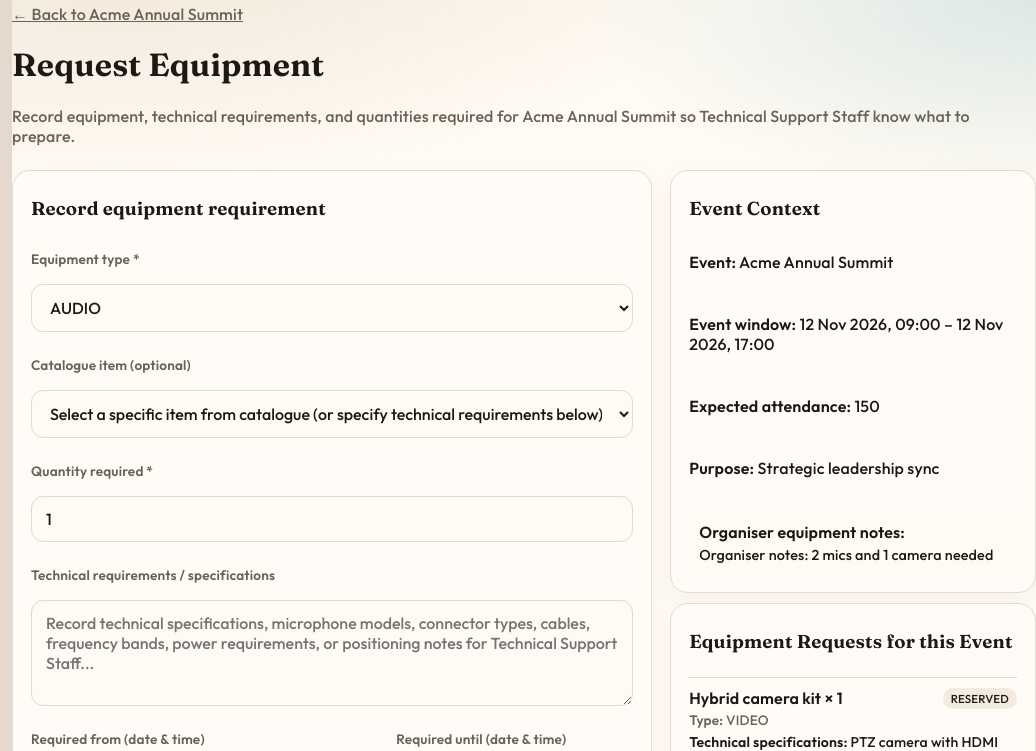
Test: SCRUM-47 EquipmentRequest page › AC2: validates quantity is at least 1
Expected: the heading "Request Equipment" is shown, [12,45,324,84]
Step 1. Replace the text in the number field labelled "Quantity required *" with "0" → [332, 519], box [31,496,633,542]
(page scrolled)
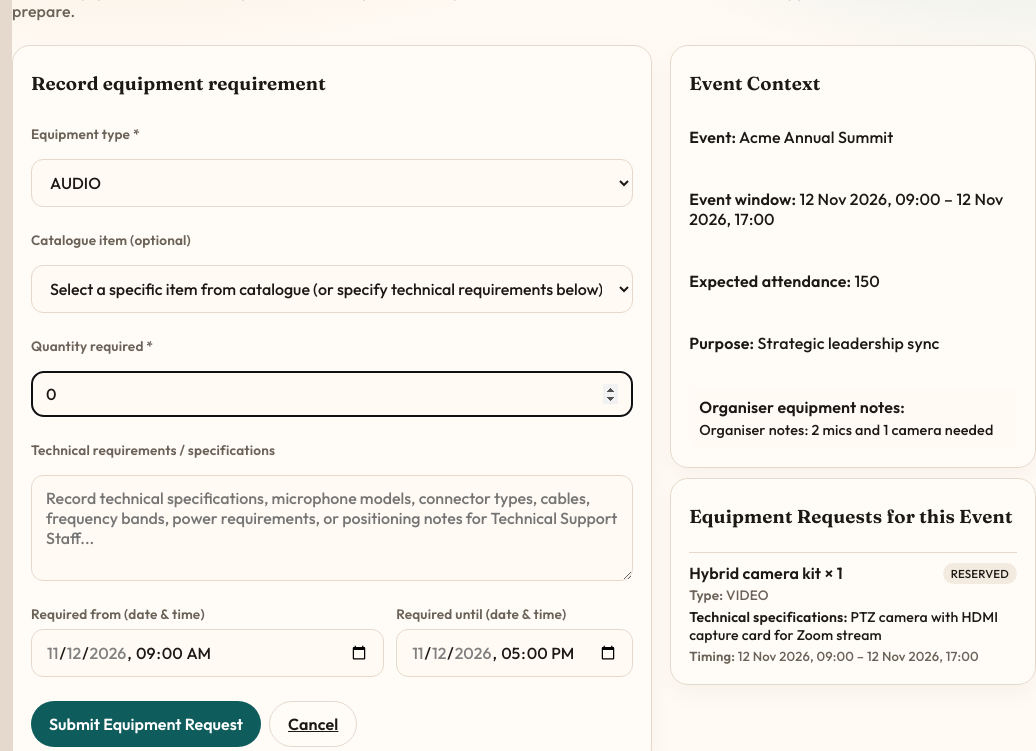
Step 2. Click the button "Submit Equipment Request" → [146, 724], box [31,701,261,747]
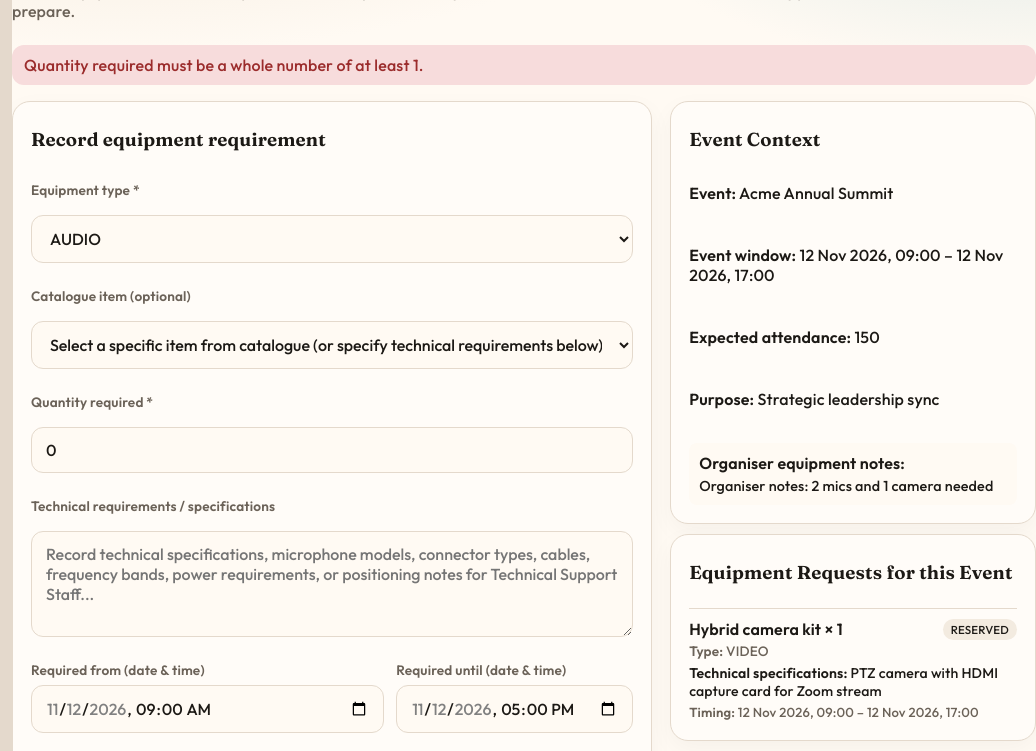
Result: the text "Quantity required must be a whole number of at least 1." is shown at [12,45,1035,85]
